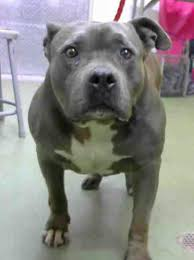Perro Pitbull: (29, 11, 182, 239)
